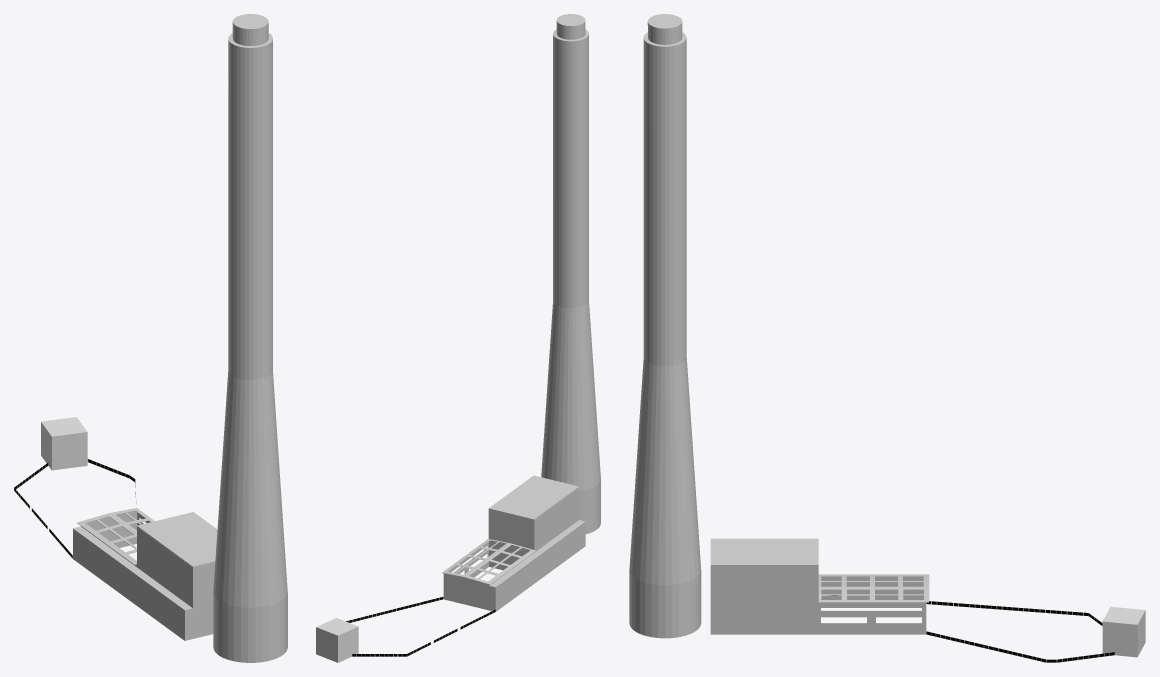
3 renders of one model, left to right at view 1: azimuth 30°, elevation 25°; view 2: azimuth 150°, elevation 25°; view 3: azimuth 270°, elevation 25°, orthographic. The views are drawn at different scales.
Parts seen in each view (by area): view 1: Smoker, Walls_Building2, Walls, Roof_Building2, Cube.005, Roof; view 2: Smoker, Walls_Building2, Walls, Roof_Building2, Cube.005, Roof; view 3: Smoker, Walls_Building2, Walls, Roof_Building2, Cube.005, Roof.
Part boxes in pixels (x1,y1,x2,y2): Smoker: [213, 14, 287, 662]; Walls_Building2: [129, 527, 215, 640]; Walls: [73, 511, 150, 599]; Roof_Building2: [137, 512, 217, 567]; Cube.005: [41, 417, 87, 470]; Roof: [77, 508, 154, 564]; Smoker: [541, 14, 600, 533]; Walls_Building2: [488, 487, 585, 578]; Walls: [443, 540, 540, 611]; Roof_Building2: [488, 475, 578, 519]; Cube.005: [316, 618, 358, 662]; Roof: [442, 539, 535, 584]; Smoker: [629, 14, 701, 638]; Walls_Building2: [710, 539, 818, 634]; Walls: [818, 576, 926, 634]; Roof_Building2: [711, 538, 818, 565]; Cube.005: [1102, 606, 1145, 657]; Roof: [818, 574, 929, 602].
Bounding box in the file's own units: 7746 × 37054 × 28759.
